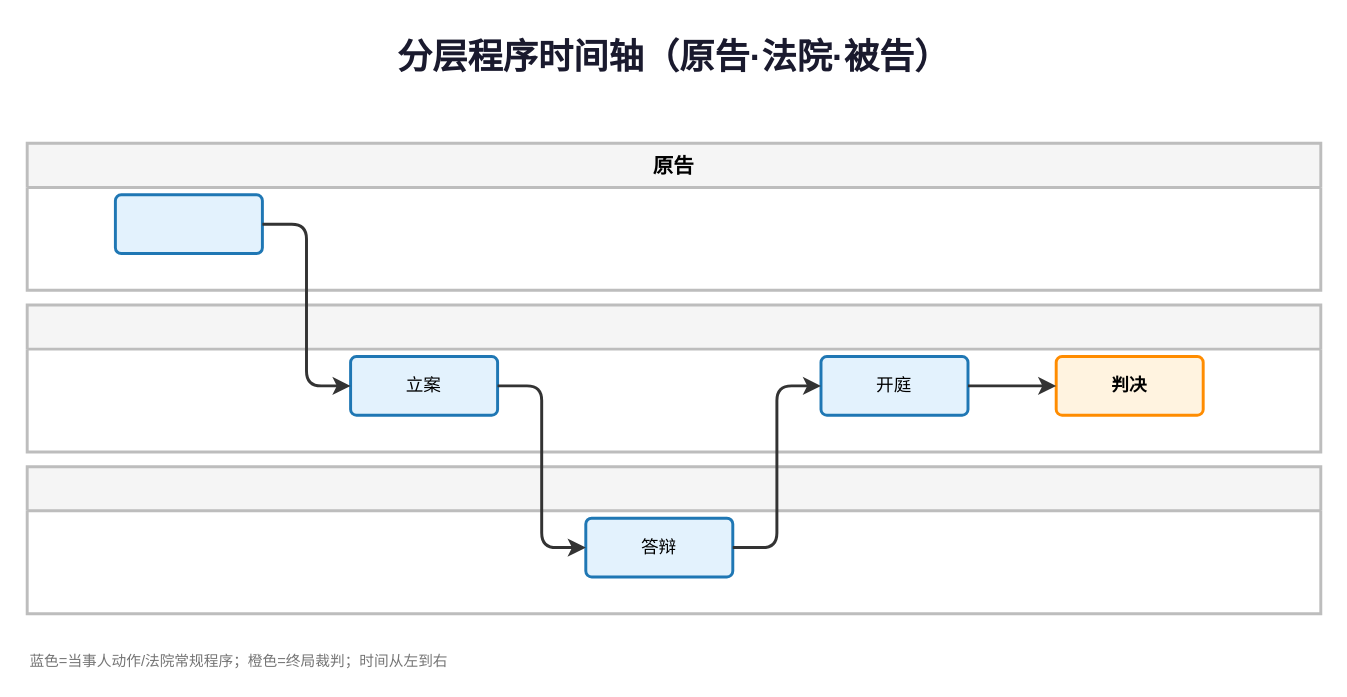
This 1347x697 diagram has some shape labels left out. Here are the shapes that lost their labels. From the top down, the box of each, then its label:
(113, 193, 263, 254): 起诉
(25, 303, 1322, 453): 法院
(25, 465, 1322, 614): 被告
